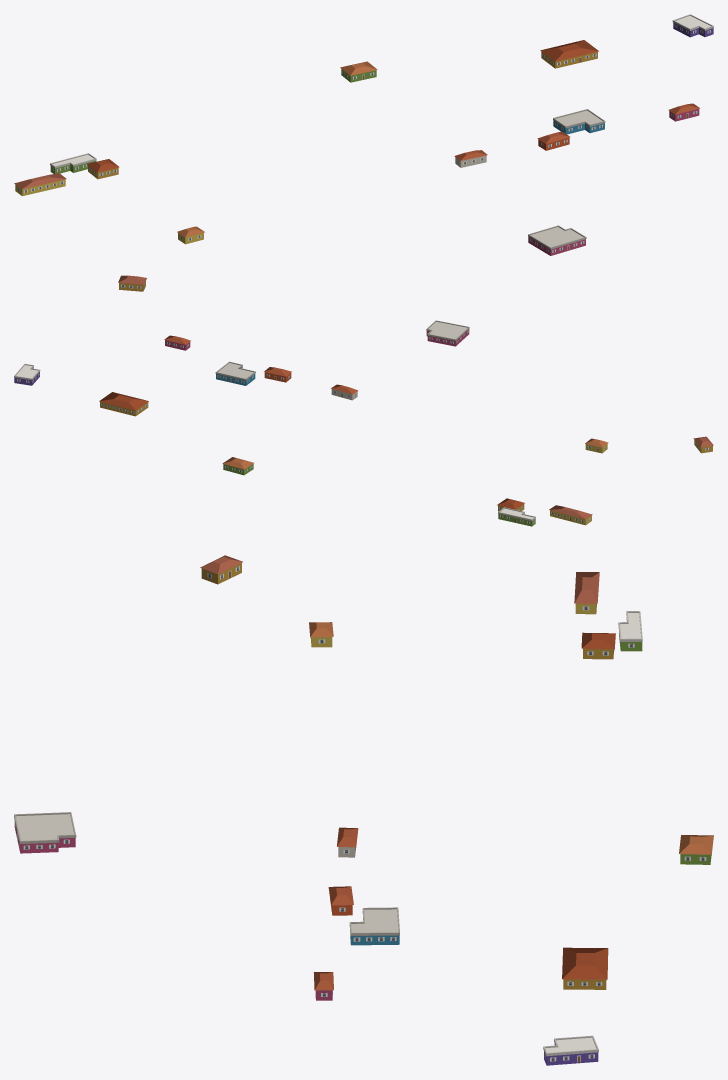
The model's file is msb_noord_m19_m18.glb.
The picture shows the model from 3 angles, top to bottom: view 1: azimuth 30°, elevation 25°; view 2: azimuth 150°, elevation 25°; view 3: azimuth 270°, elevation 25°; orthographic projection. The views are drawn at different scales.
Parts seen in each view (by area): view 1: msb_noord_m19_m18_lod0; view 2: msb_noord_m19_m18_lod0; view 3: msb_noord_m19_m18_lod0.
Boxes of the visible parts, bbox=[...] form: msb_noord_m19_m18_lod0: bbox=[14, 14, 713, 291]; msb_noord_m19_m18_lod0: bbox=[14, 320, 713, 526]; msb_noord_m19_m18_lod0: bbox=[14, 555, 713, 1065].
Size of what is drawn, in the model's own units: 349 by 7.75 by 204.
Materials: 3 (1 with a texture image).
